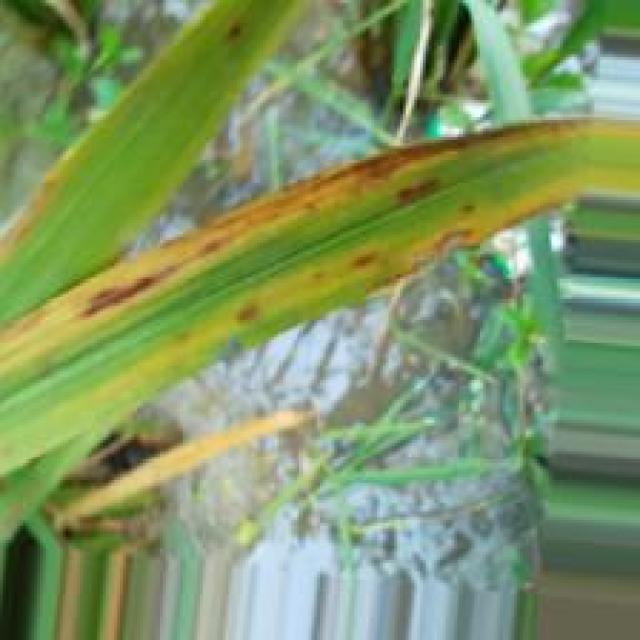Narrow_Brown_Leaf_Spot: (0, 122, 640, 387), (48, 178, 572, 411), (0, 5, 252, 275)
